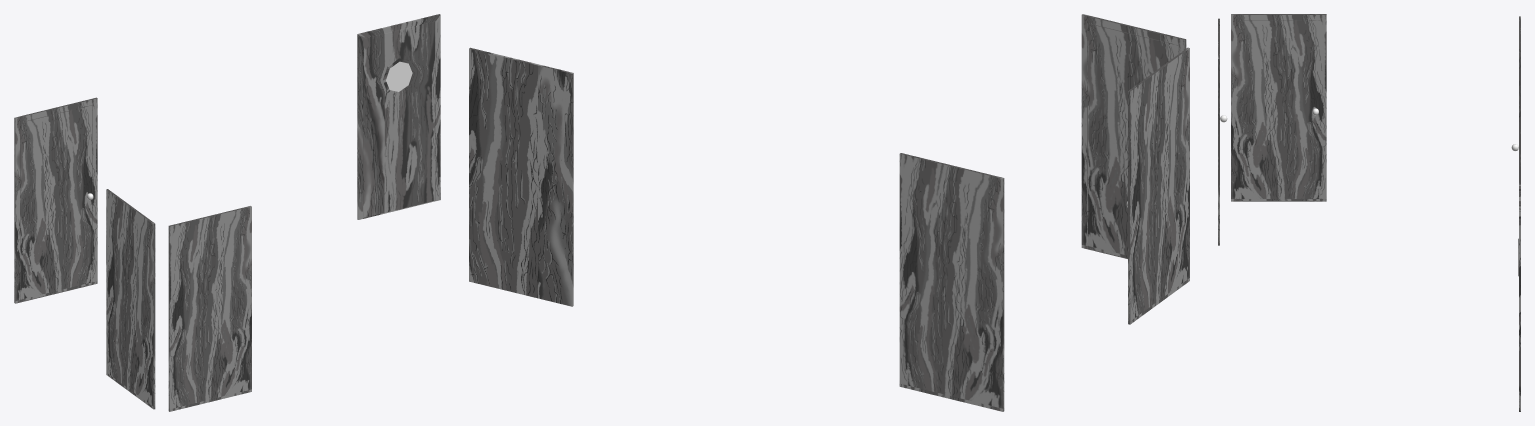
File: puertas.glb
3 renders of one model, left to right at view 1: azimuth 30°, elevation 25°; view 2: azimuth 150°, elevation 25°; view 3: azimuth 270°, elevation 25°, orthographic. The views are drawn at different scales.
Parts seen in each view (by area): view 1: Plane.008; view 2: Plane.008; view 3: Plane.008.
Part boxes in pixels (x1,y1,x2,y2): Plane.008: [14, 14, 440, 411]; Plane.008: [469, 14, 1189, 411]; Plane.008: [1218, 14, 1520, 411].
Size of the model in its own units: 9.69 by 3.99 by 5.87.
Materials: 2 (1 with a texture image).
